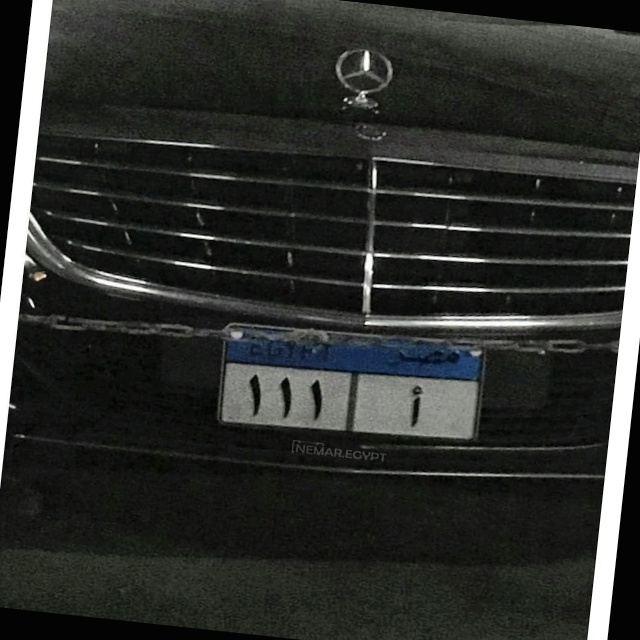License Plate: (211, 312, 490, 455)
